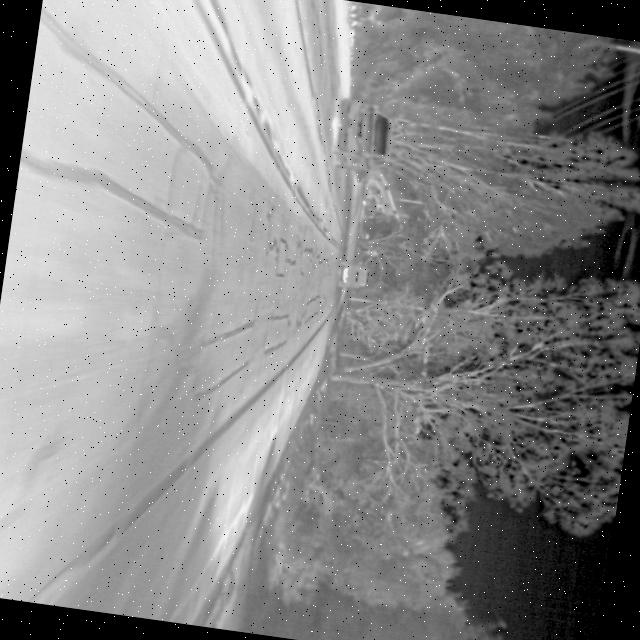Vehicle: (326, 95, 401, 176), (336, 258, 374, 292)
